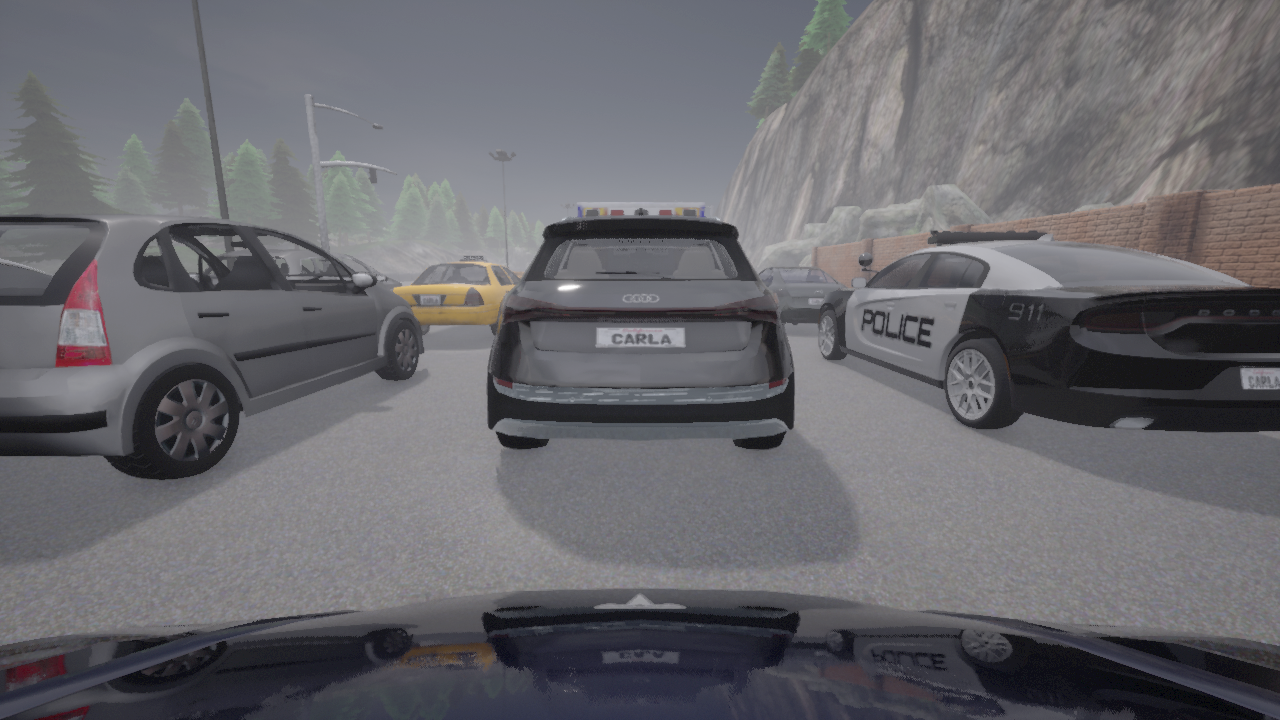cyclist: (0, 588, 1279, 719), (0, 214, 424, 479), (818, 230, 1279, 431), (487, 207, 794, 449), (390, 255, 519, 335), (758, 266, 847, 325), (329, 252, 402, 290), (577, 202, 705, 217)
